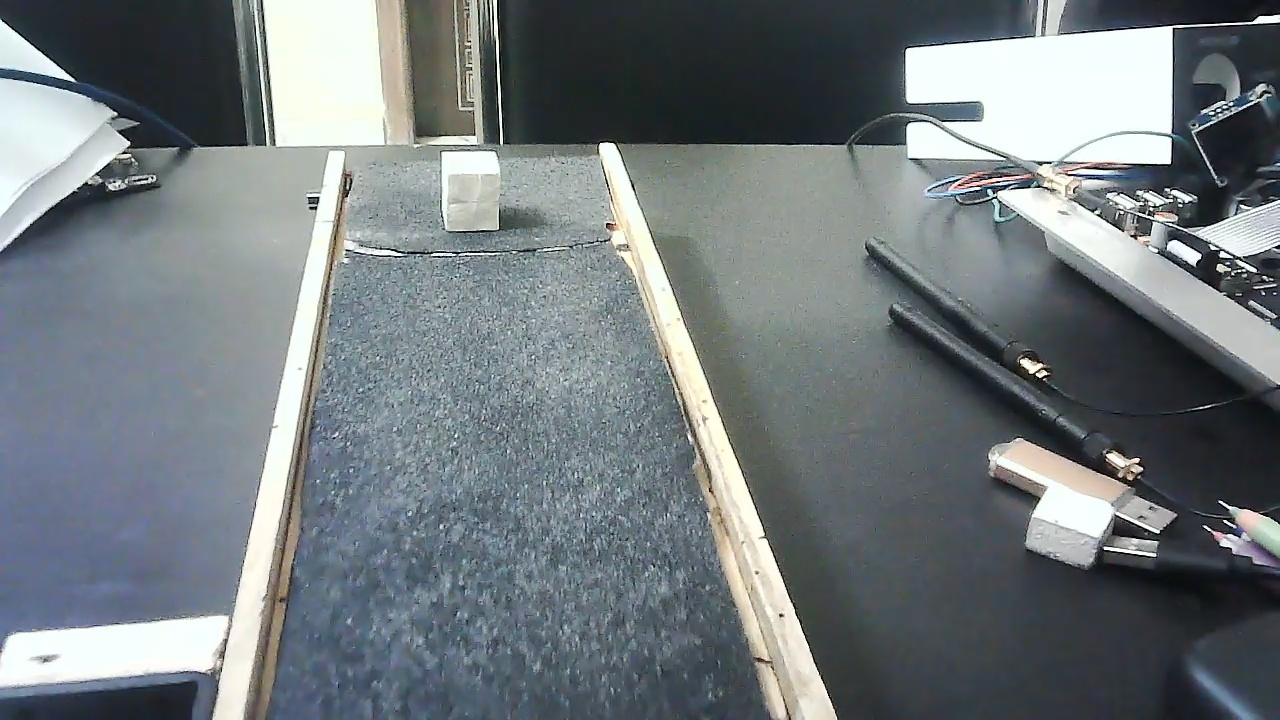Small: (431, 151, 511, 231)
